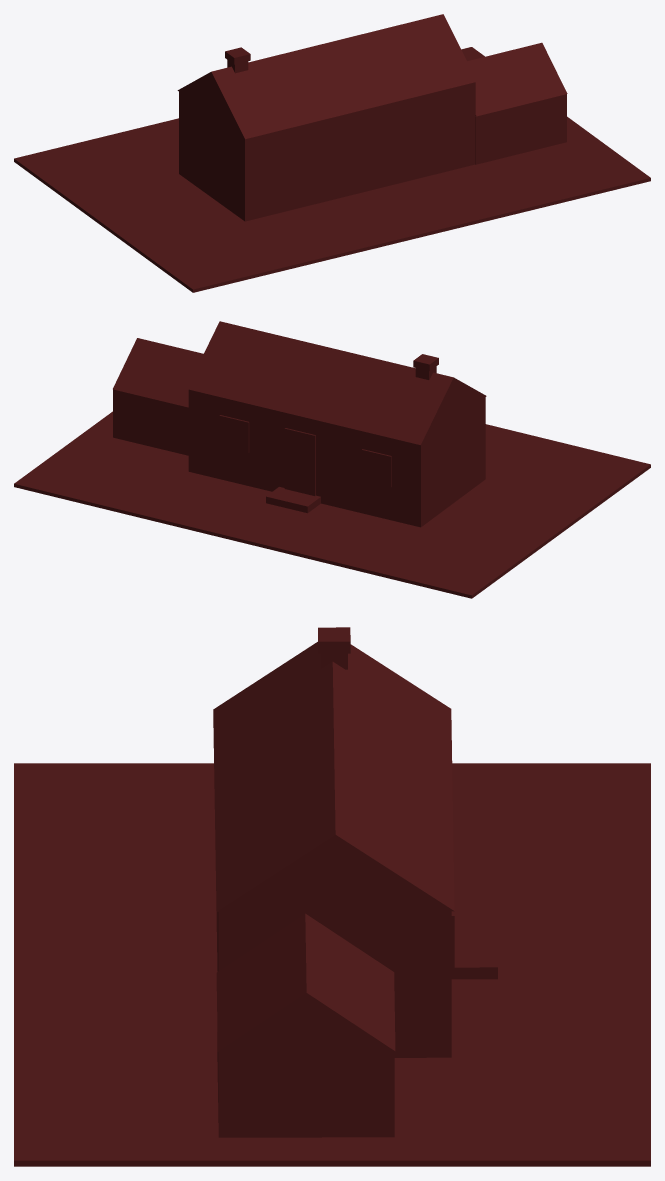
File: House.fbx
The picture shows the model from 3 angles, top to bottom: view 1: azimuth 30°, elevation 25°; view 2: azimuth 150°, elevation 25°; view 3: azimuth 270°, elevation 25°; orthographic projection. The views are drawn at different scales.
Parts seen in each view (by area): view 1: House1:pCube317; view 2: House1:pCube317; view 3: House1:pCube317.
Part boxes in pixels (x1,y1,x2,y2): House1:pCube317: [14, 14, 650, 292]; House1:pCube317: [14, 321, 650, 598]; House1:pCube317: [14, 627, 650, 1166].
Bounding box in the file's own units: 34.65 × 10.23 × 23.47.
